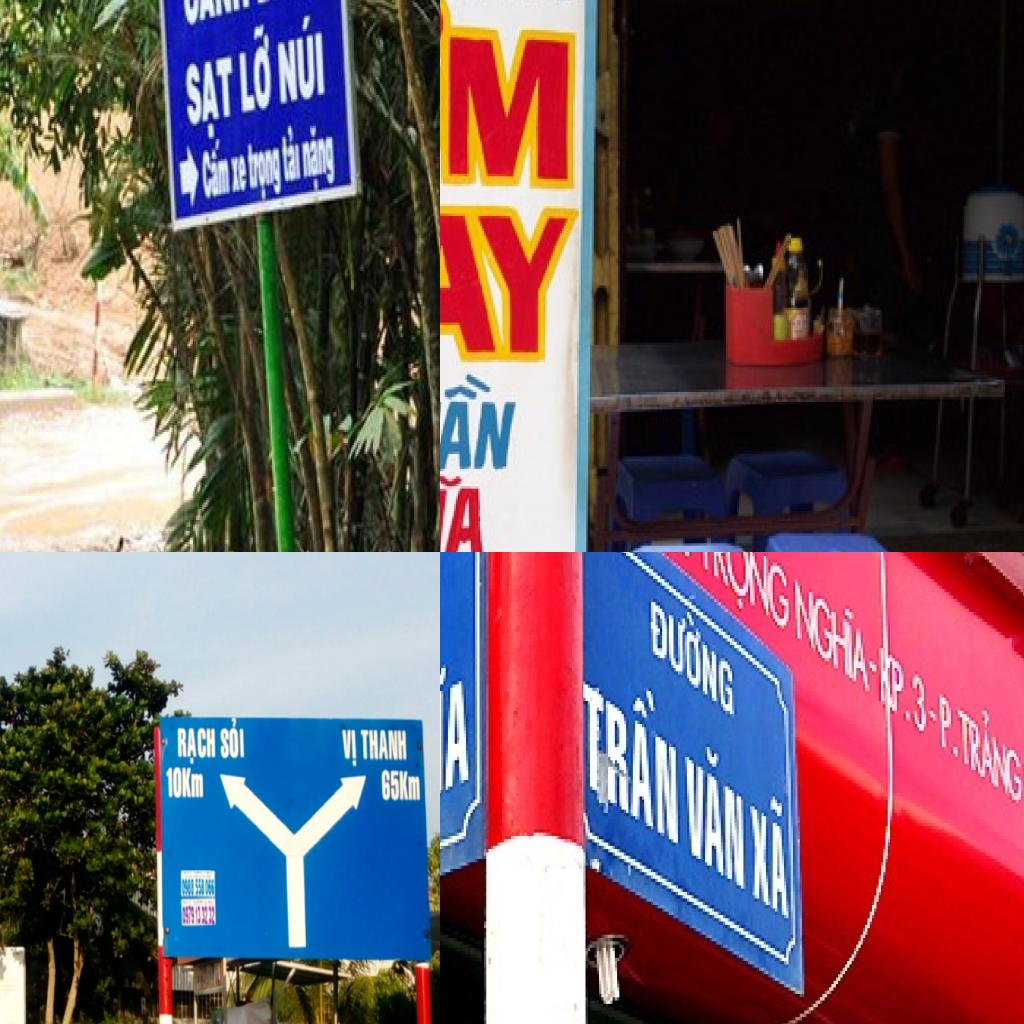text: (440, 0, 587, 198), (440, 193, 586, 372), (584, 648, 682, 852), (648, 579, 736, 724), (682, 728, 748, 898), (793, 566, 874, 701), (696, 552, 793, 651), (440, 369, 525, 476), (955, 691, 1024, 816), (748, 780, 793, 928), (440, 654, 475, 832), (879, 642, 933, 744), (274, 11, 326, 106), (181, 55, 234, 148), (440, 471, 493, 552), (234, 20, 272, 119), (247, 139, 284, 205), (198, 135, 232, 203), (177, 0, 253, 28), (938, 688, 964, 767), (175, 725, 218, 766), (358, 728, 408, 762), (279, 124, 303, 185), (218, 716, 244, 760), (182, 766, 206, 799), (338, 729, 358, 768), (231, 154, 249, 196), (379, 770, 400, 802), (400, 770, 421, 801), (182, 905, 216, 924), (164, 766, 182, 798), (181, 878, 195, 897), (205, 879, 215, 898), (195, 878, 205, 896)
